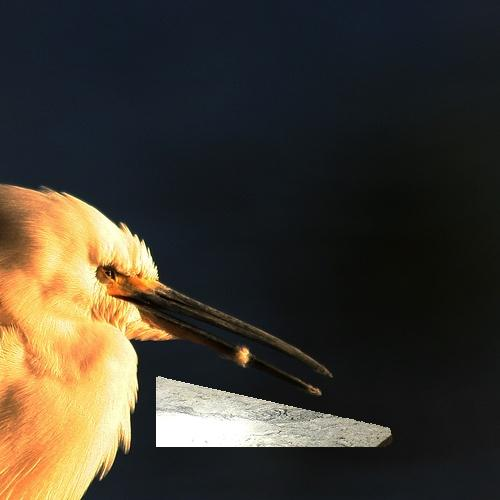tampered: (157, 377, 393, 447)
